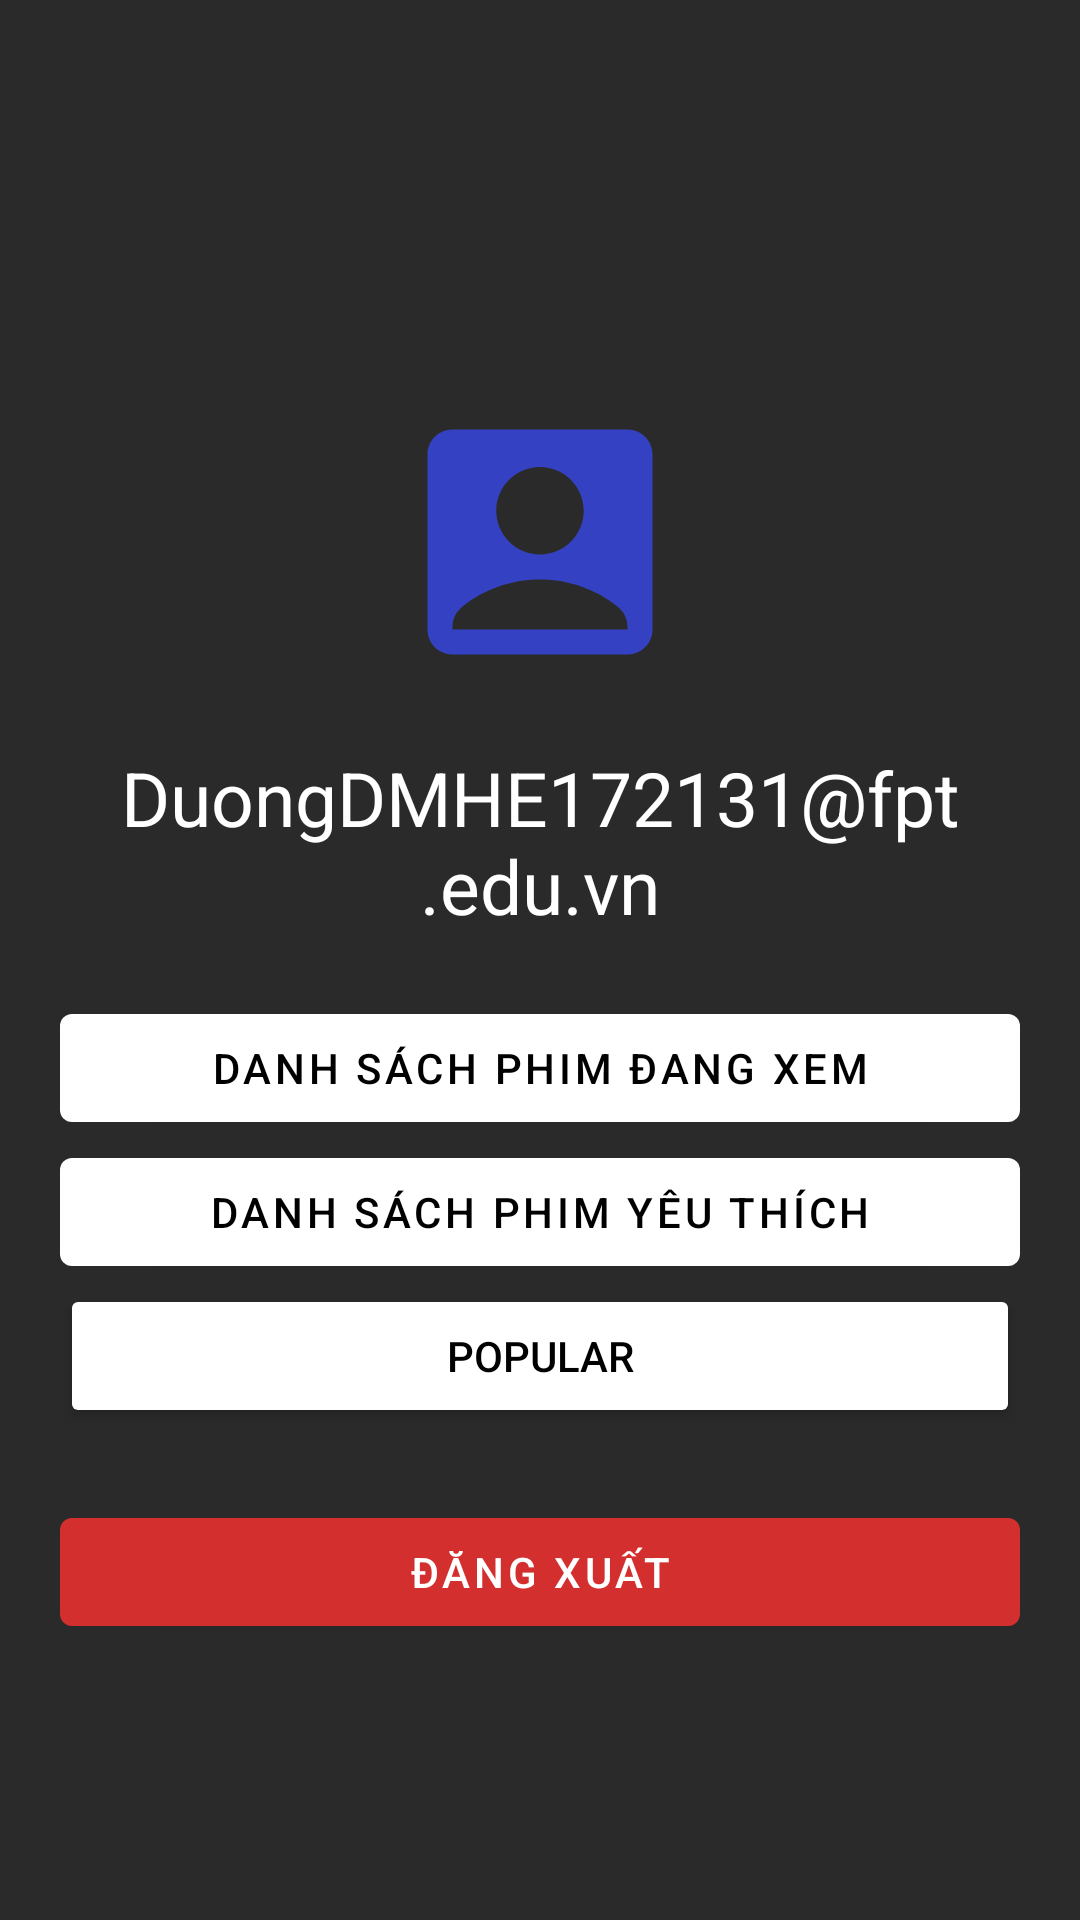

Where icons sit on this 1080px×1920px app screen, as (x1, y1, x2, y2):
account: (427, 429, 653, 655)
